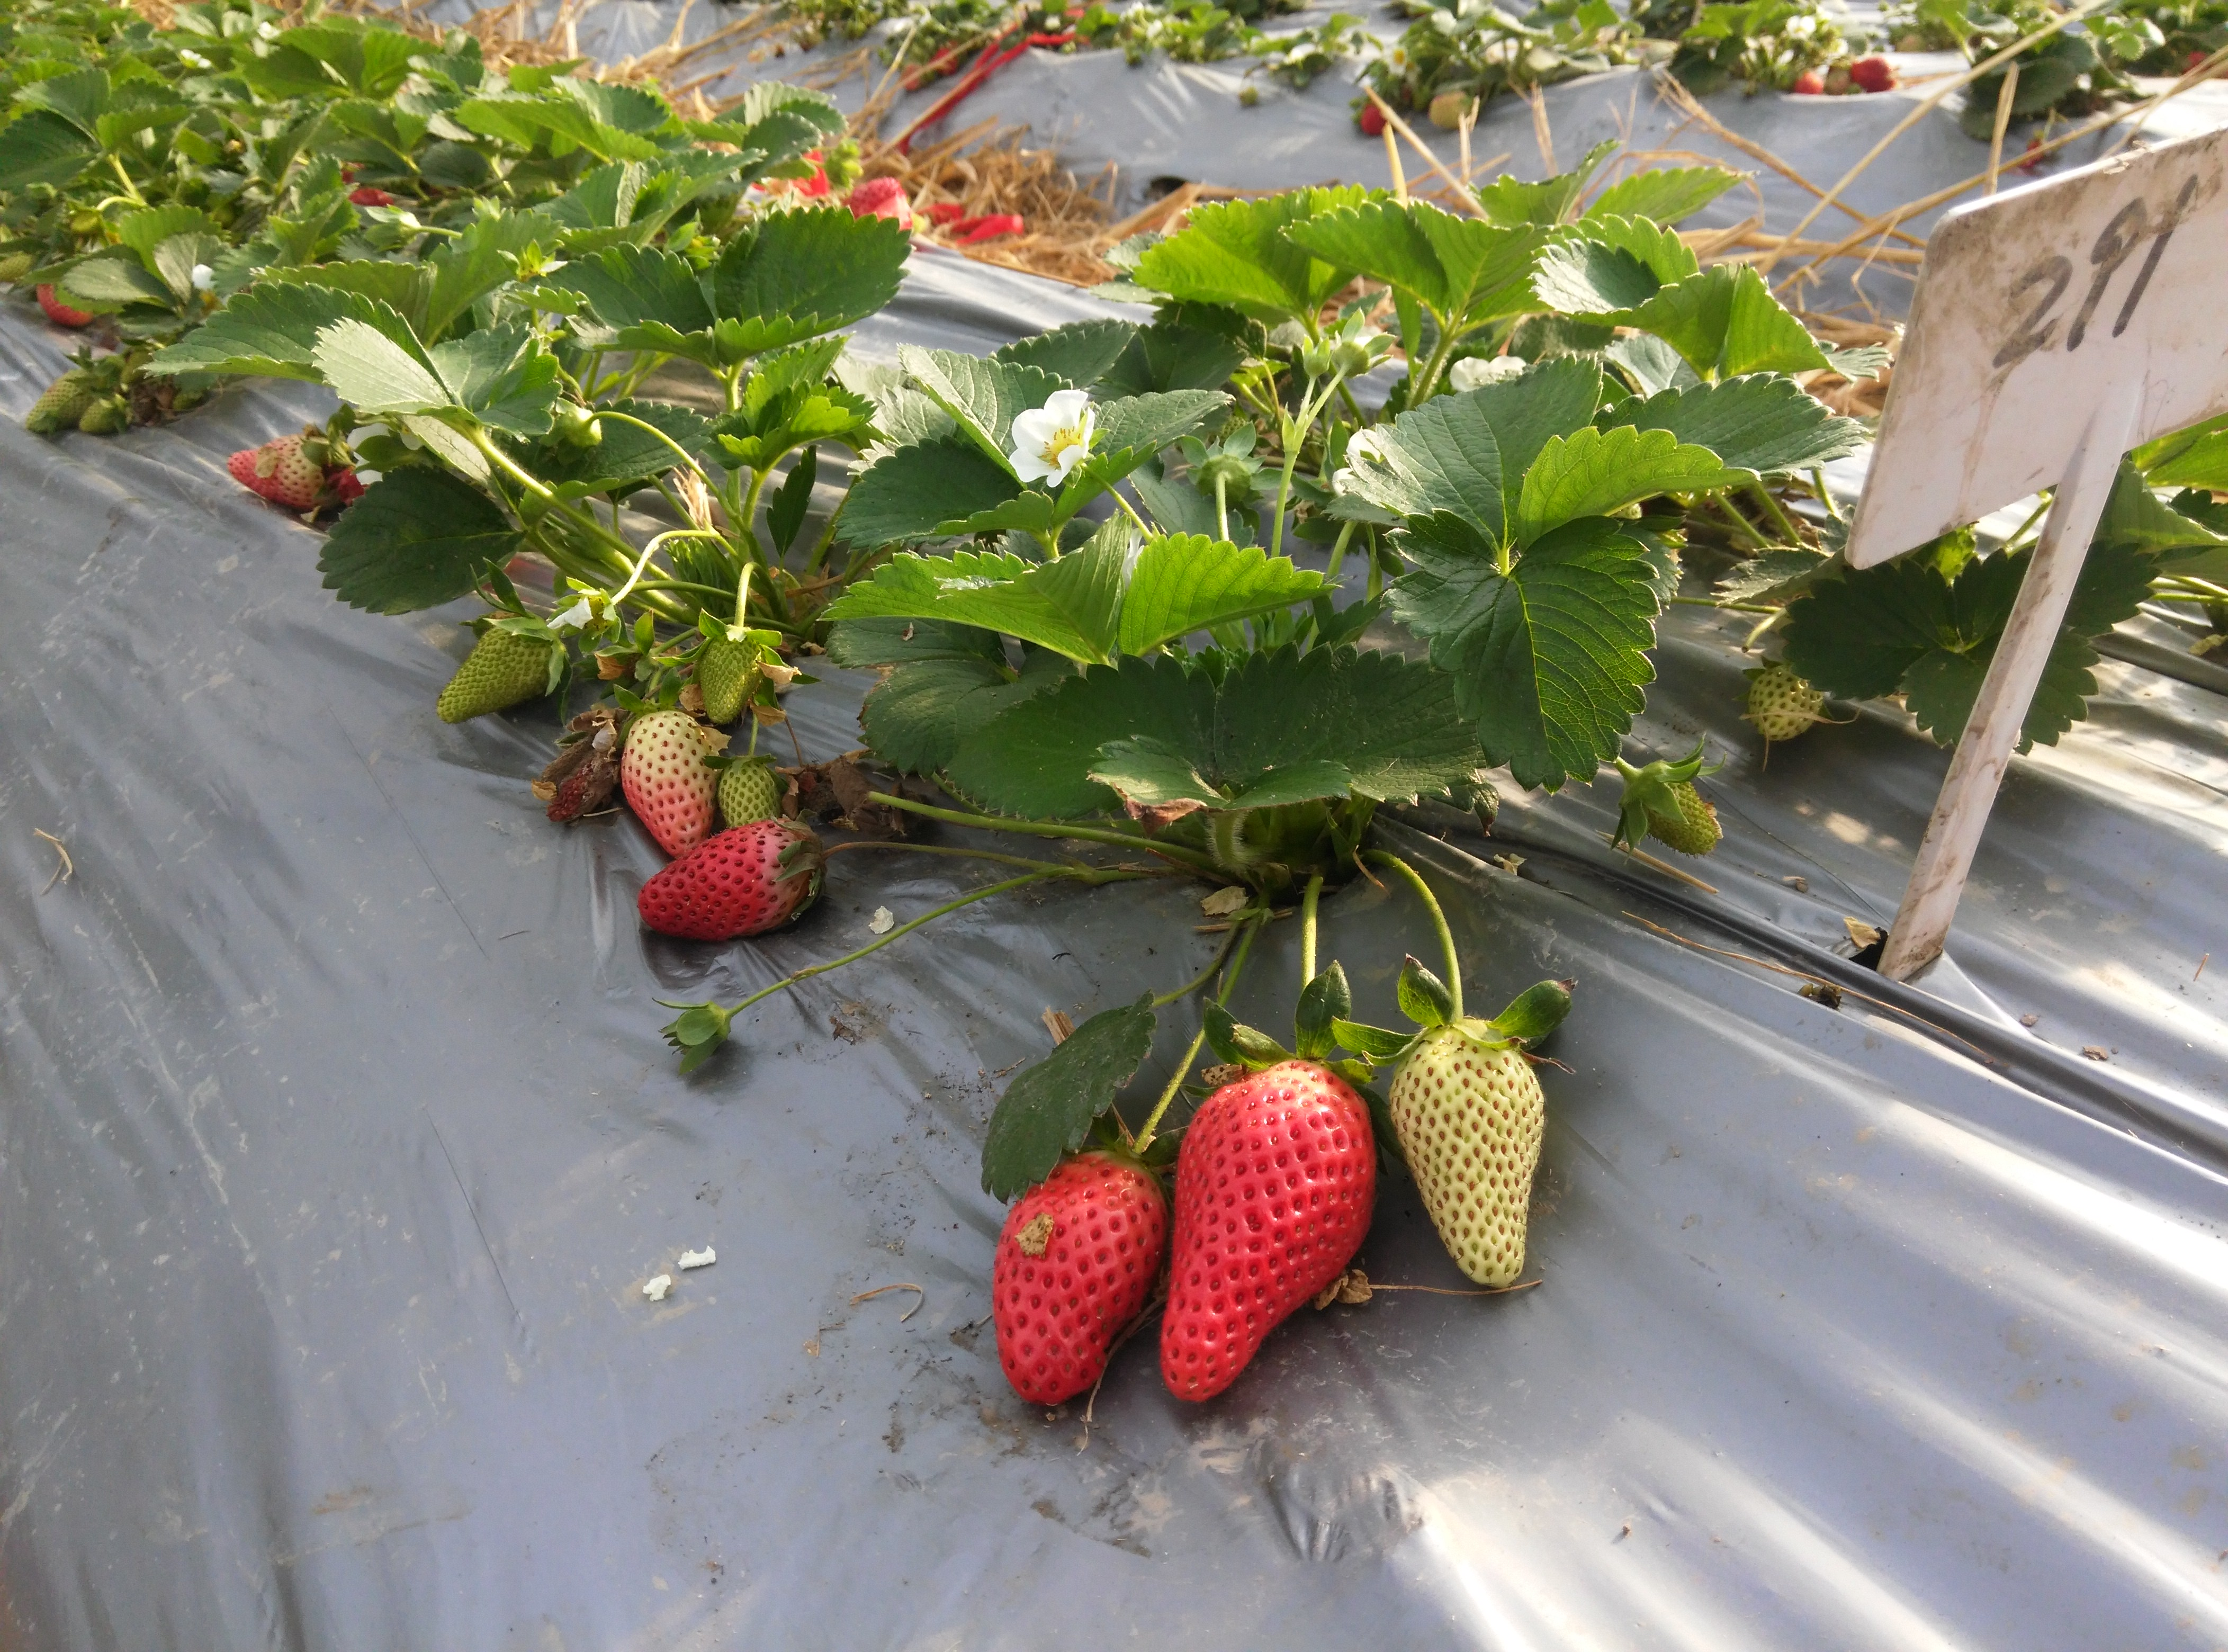StrawberryCone: (1142, 1038, 1400, 1416), (979, 1126, 1164, 1418)
StrawberryIrremovable: (1386, 1006, 1551, 1295), (633, 809, 822, 954), (611, 703, 715, 855), (434, 614, 559, 724), (220, 427, 368, 514), (1628, 760, 1728, 869), (1739, 649, 1824, 750), (694, 618, 774, 724), (10, 356, 104, 442), (717, 755, 786, 831), (23, 269, 101, 330), (1428, 83, 1484, 135), (75, 390, 121, 436)
StrawberryOther: (748, 128, 835, 215), (835, 174, 927, 250), (1348, 88, 1399, 149), (1838, 57, 1898, 102), (1782, 62, 1836, 102)
StrawberryRemovable: (1149, 1046, 1393, 1411), (986, 1131, 1164, 1414), (753, 134, 831, 213), (836, 175, 925, 245), (1350, 90, 1399, 141), (1843, 57, 1897, 99), (1791, 59, 1831, 102)
